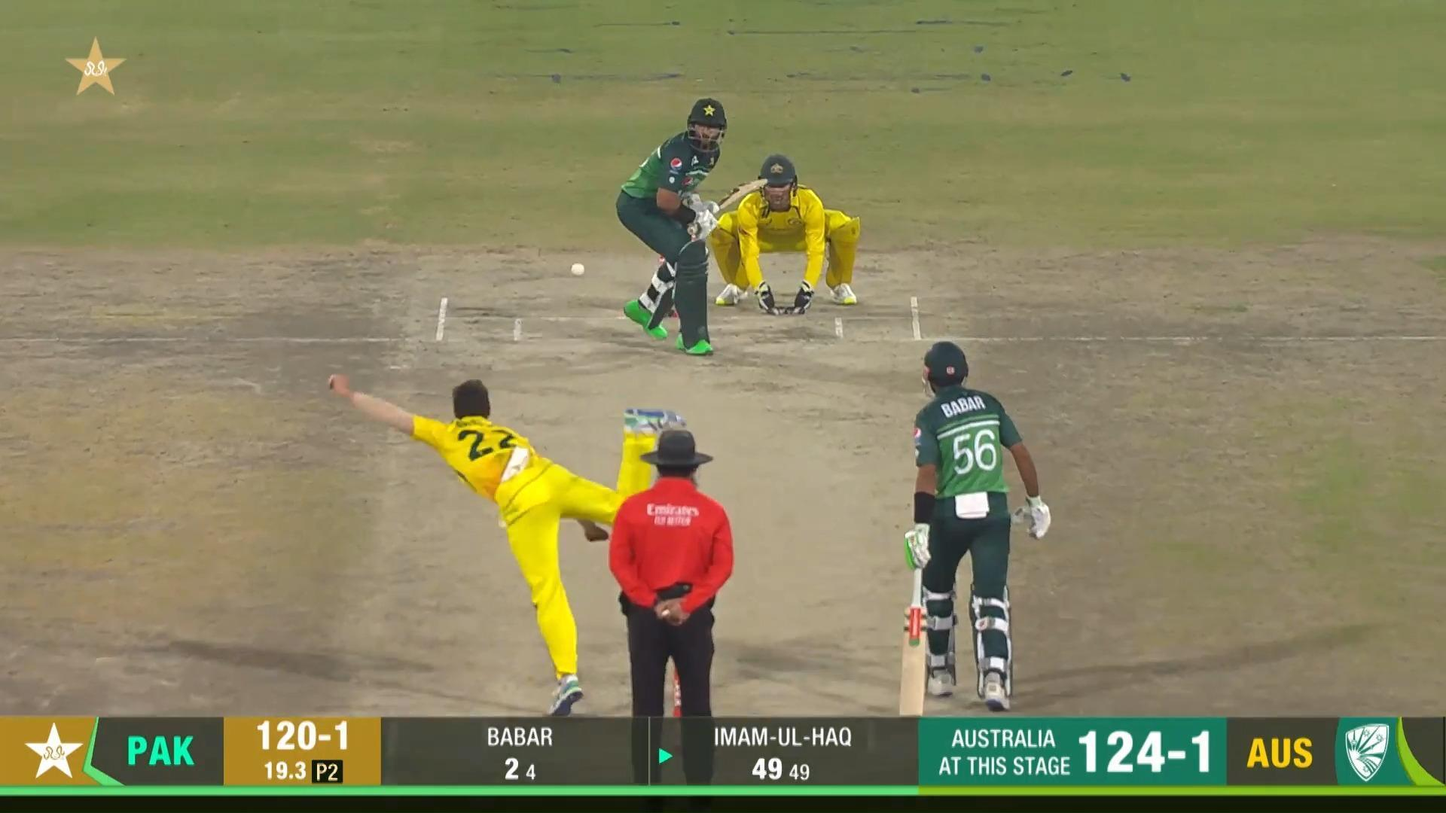BM 1: (616, 97, 771, 358)
BO: (324, 369, 689, 717)
